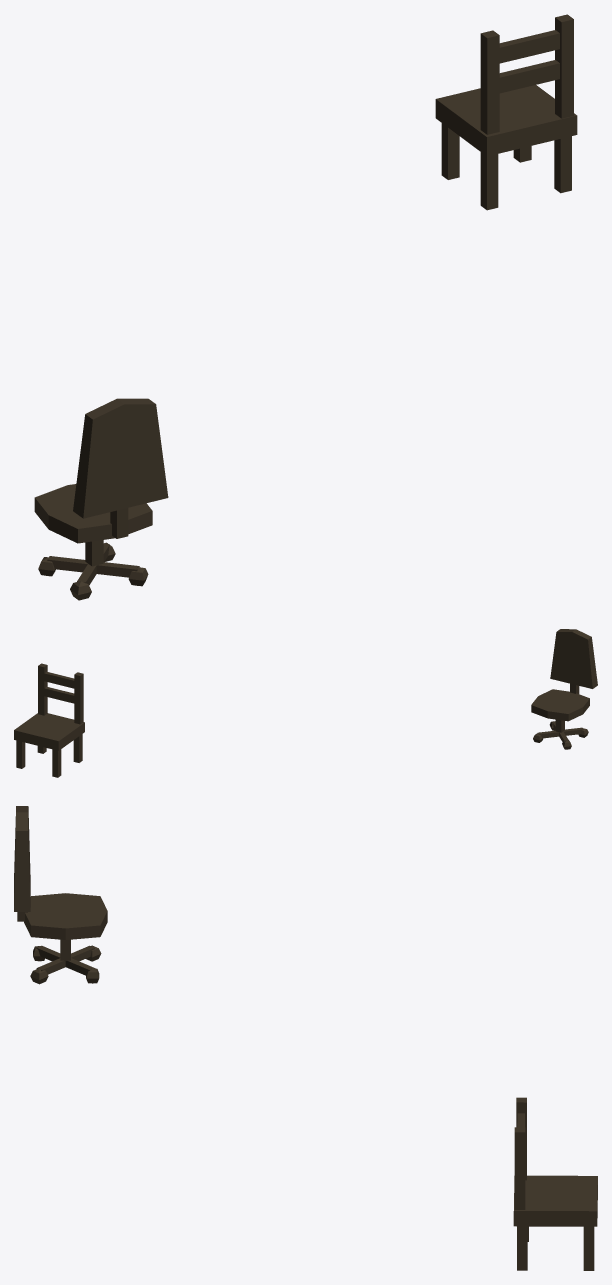
The model's file is Chairs.fbx.
The picture shows the model from 3 angles, top to bottom: view 1: azimuth 30°, elevation 25°; view 2: azimuth 150°, elevation 25°; view 3: azimuth 270°, elevation 25°; orthographic projection. The views are drawn at different scales.
Visible parts, largest first — view 1: Chair, DesktopChair; view 2: DesktopChair, Chair; view 3: DesktopChair, Chair.
Boxes of the visible parts, bbox=[...] form: Chair: bbox=[435, 14, 577, 210]; DesktopChair: bbox=[34, 398, 168, 600]; DesktopChair: bbox=[531, 629, 597, 749]; Chair: bbox=[14, 663, 84, 777]; DesktopChair: bbox=[14, 806, 107, 984]; Chair: bbox=[513, 1097, 597, 1270].
Bounding box in the file's own units: 6.3 × 1.48 × 4.9.
